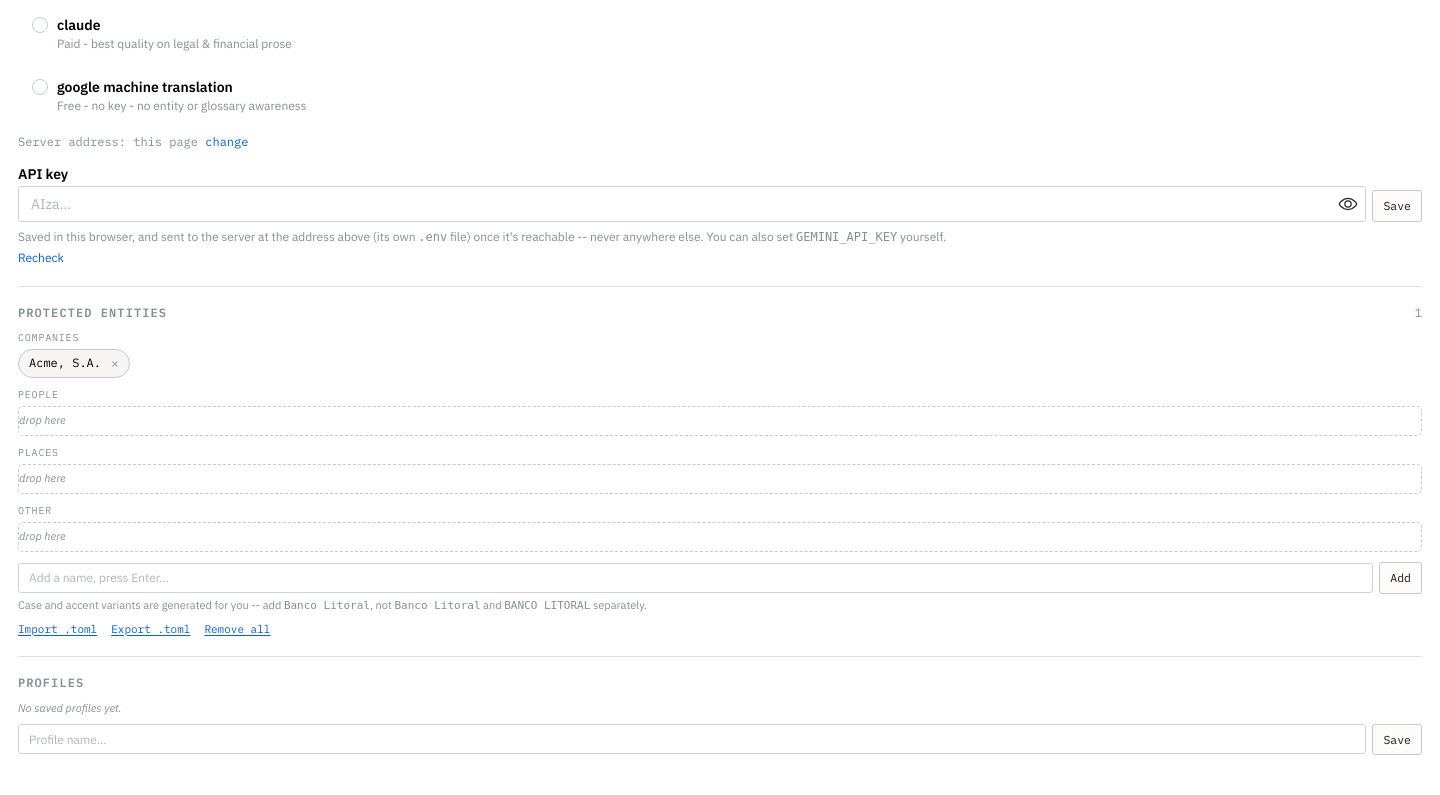
Scenario: entity profiles: save, load, delete › saves the current roster as a named profile, and it appears in the profiles list
(page scrolled)
Check: the text "Acme, S.A." is shown, box left=29, top=354, right=101, bottom=373
Type "Deal A" into the field with placeholder "Profile name..." at (692, 739), box left=18, top=724, right=1366, bottom=754
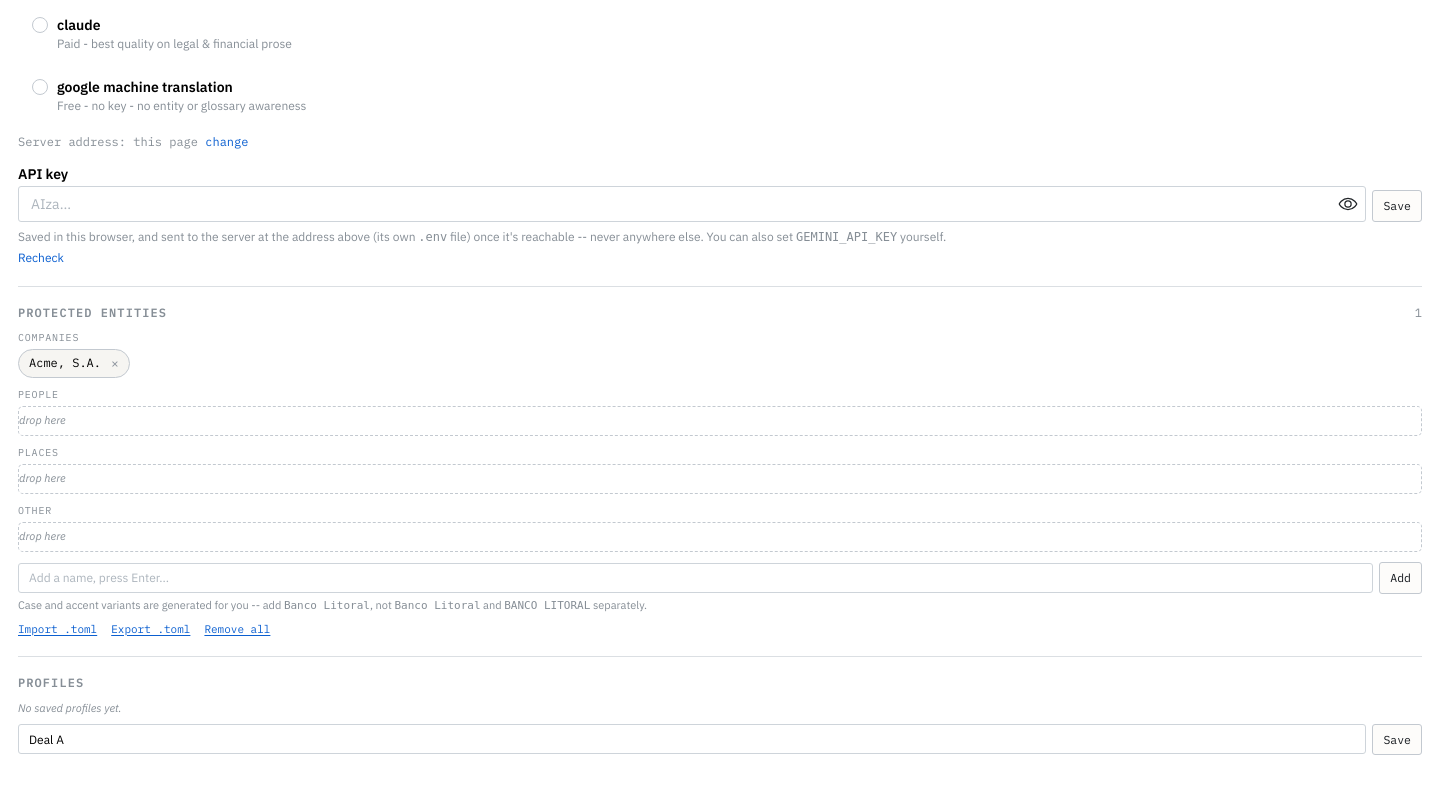
Click the button with aria-label "Save profile" at (1397, 739), box left=1372, top=724, right=1422, bottom=755
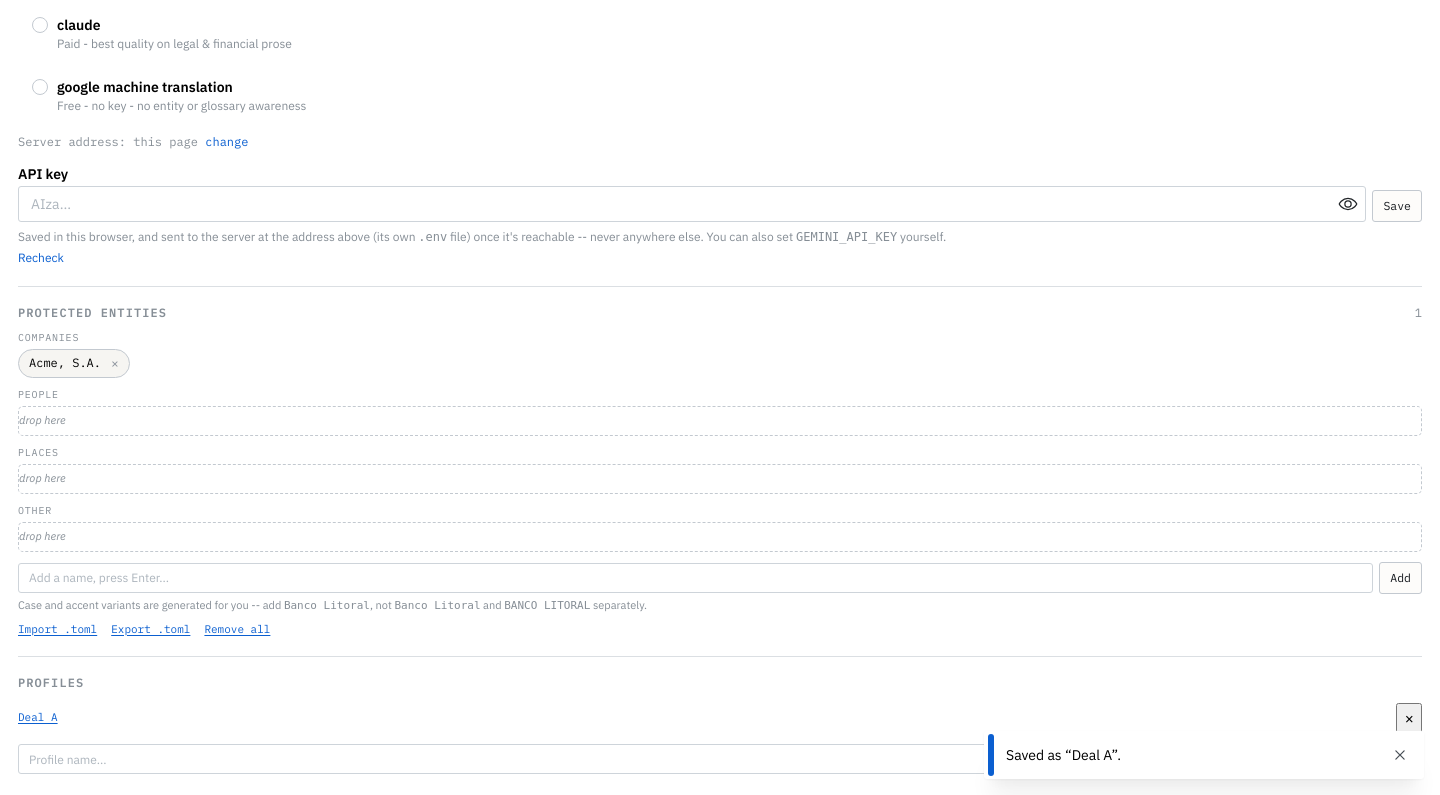
Check: the button with aria-label "load profile: deal a" is shown, box left=18, top=709, right=58, bottom=726
